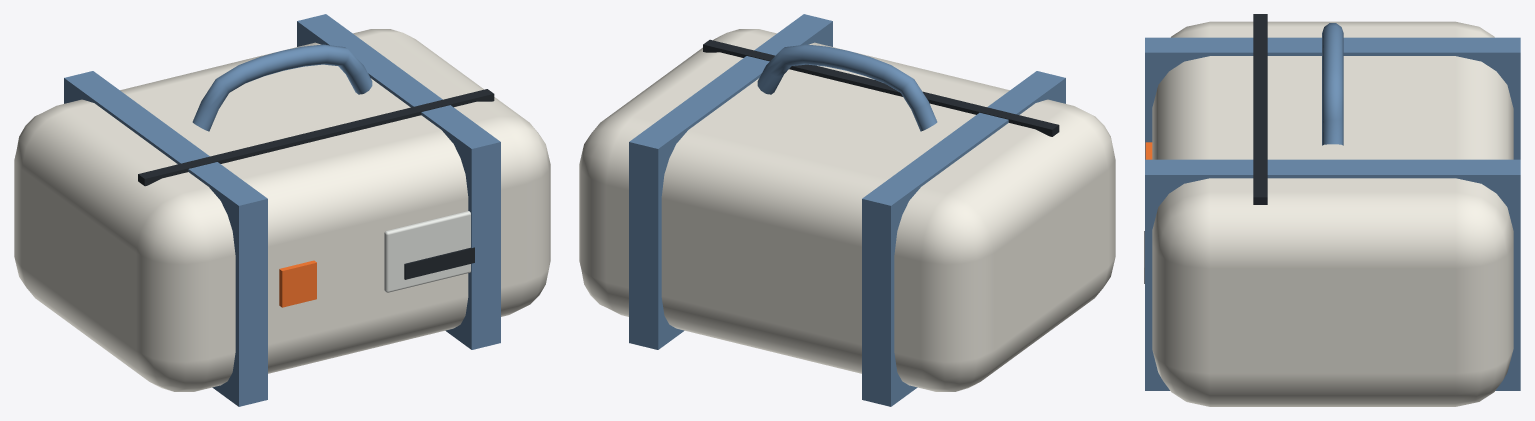
Rendered from supply-bag.glb.
3 renders of one model, left to right at view 1: azimuth 30°, elevation 25°; view 2: azimuth 150°, elevation 25°; view 3: azimuth 270°, elevation 25°, orthographic. The views are drawn at different scales.
Parts seen in each view (by area): view 1: supply-bag-beta-cloth, supply-bag-cargo-bag-blue, supply-bag-dark-polymer, supply-bag-hull-white, handle-cargo-bag-blue, supply-bag-safety-orange; view 2: supply-bag-beta-cloth, supply-bag-cargo-bag-blue, handle-cargo-bag-blue, supply-bag-dark-polymer; view 3: supply-bag-beta-cloth, supply-bag-cargo-bag-blue, supply-bag-dark-polymer, handle-cargo-bag-blue.
Part boxes in pixels (x1,y1,x2,y2): supply-bag-beta-cloth: (14, 29, 550, 391); supply-bag-cargo-bag-blue: (64, 14, 500, 406); supply-bag-dark-polymer: (138, 89, 494, 279); supply-bag-hull-white: (384, 211, 470, 292); handle-cargo-bag-blue: (192, 44, 372, 131); supply-bag-safety-orange: (279, 260, 316, 307); supply-bag-beta-cloth: (579, 29, 1115, 391); supply-bag-cargo-bag-blue: (629, 14, 1065, 406); handle-cargo-bag-blue: (757, 44, 937, 131); supply-bag-dark-polymer: (703, 39, 1059, 136); supply-bag-beta-cloth: (1152, 21, 1513, 406); supply-bag-cargo-bag-blue: (1145, 37, 1520, 390); supply-bag-dark-polymer: (1144, 14, 1267, 283); handle-cargo-bag-blue: (1322, 23, 1343, 145).
Bounding box in the file's own units: 0.7 × 0.4249 × 0.521.
